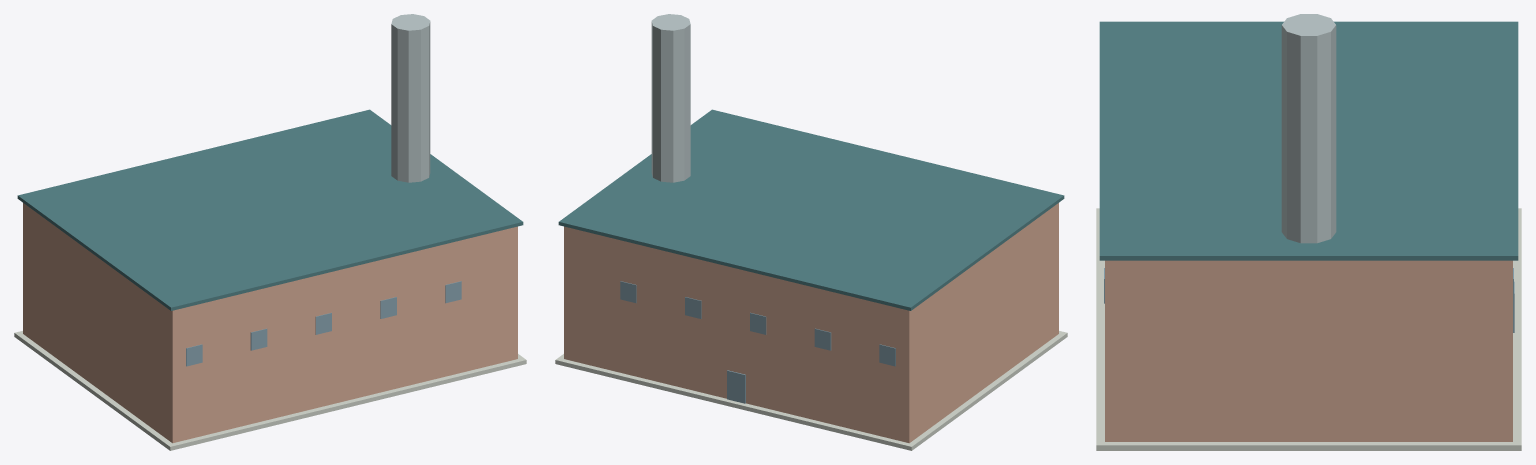
The model's file is factory.glb.
3 views of the same model, side by side, from view 1: azimuth 30°, elevation 25°; view 2: azimuth 150°, elevation 25°; view 3: azimuth 270°, elevation 25° (orthographic). The views are drawn at different scales.
Visible parts, largest first — view 1: factory__walls, factory__roof, factory__chimney, factory__plinth; view 2: factory__walls, factory__roof, factory__chimney, factory__plinth, factory__front_door; view 3: factory__roof, factory__walls, factory__chimney, factory__plinth.
Boxes of the visible parts, left/top/right/bottom form: factory__walls: left=23, top=203, right=517, bottom=443; factory__roof: left=17, top=109, right=523, bottom=310; factory__chimney: left=391, top=14, right=430, bottom=182; factory__plinth: left=14, top=331, right=526, bottom=450; factory__walls: left=564, top=203, right=1058, bottom=443; factory__roof: left=558, top=109, right=1064, bottom=310; factory__chimney: left=651, top=14, right=690, bottom=182; factory__plinth: left=555, top=331, right=1067, bottom=450; factory__front_door: left=727, top=370, right=745, bottom=403; factory__roof: left=1099, top=21, right=1518, bottom=260; factory__walls: left=1105, top=260, right=1512, bottom=441; factory__chimney: left=1281, top=14, right=1336, bottom=243; factory__plinth: left=1096, top=208, right=1521, bottom=450.
Bounding box in the file's own units: 33 × 26 × 25.
